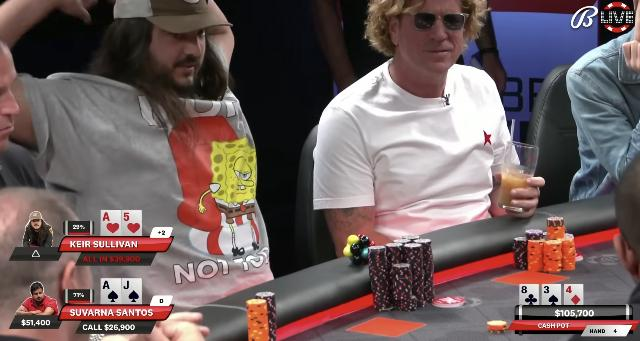3S: (542, 285, 560, 305)
4D: (565, 285, 583, 305)
5H: (122, 210, 142, 235)
8C: (520, 285, 538, 305)
AH: (102, 210, 120, 236)
AS: (102, 280, 120, 304)
JS: (122, 279, 140, 305)
